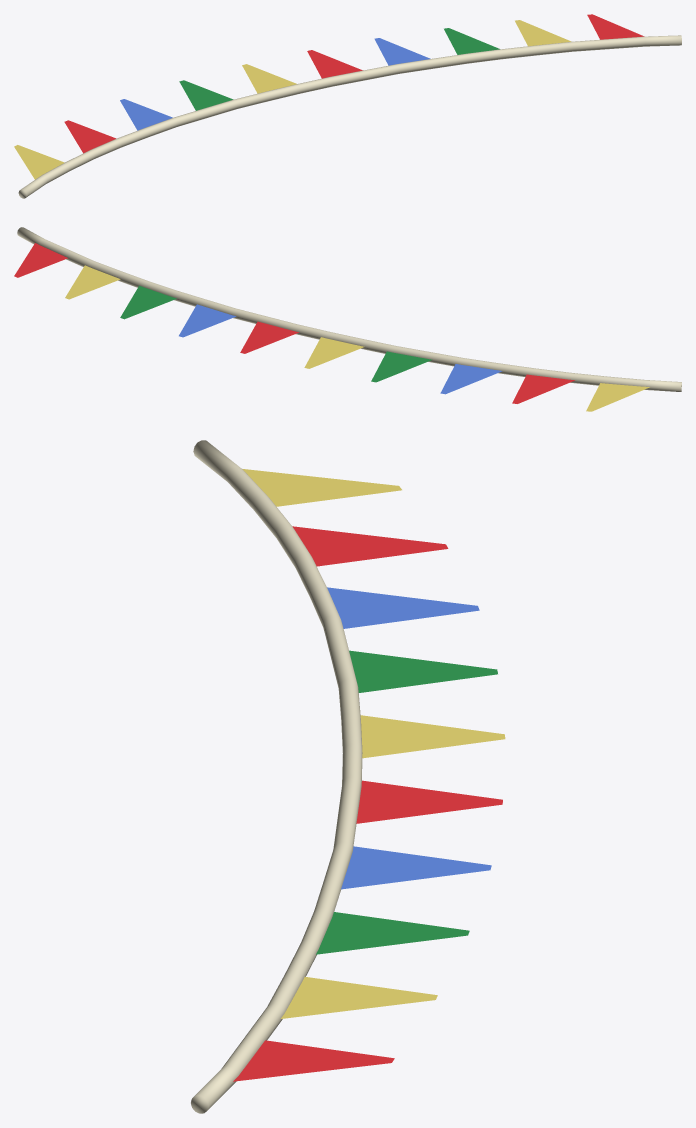
File: circus flags.fbx
3 views of the same model, one above another, from view 1: azimuth 30°, elevation 25°; view 2: azimuth 150°, elevation 25°; view 3: azimuth 270°, elevation 25° (orthographic). The views are drawn at different scales.
Parts seen in each view (by area): view 1: Flags, String; view 2: Flags, String; view 3: Flags, String.
Boxes of the visible parts, <box> form: Flags: <box>14,14,644,179</box>; String: <box>18,35,681,198</box>; Flags: <box>14,243,649,411</box>; String: <box>17,227,681,391</box>; Flags: <box>233,469,505,1081</box>; String: <box>191,440,362,1113</box>.
Bounding box in the file's own units: 849 × 22.48 × 175.
